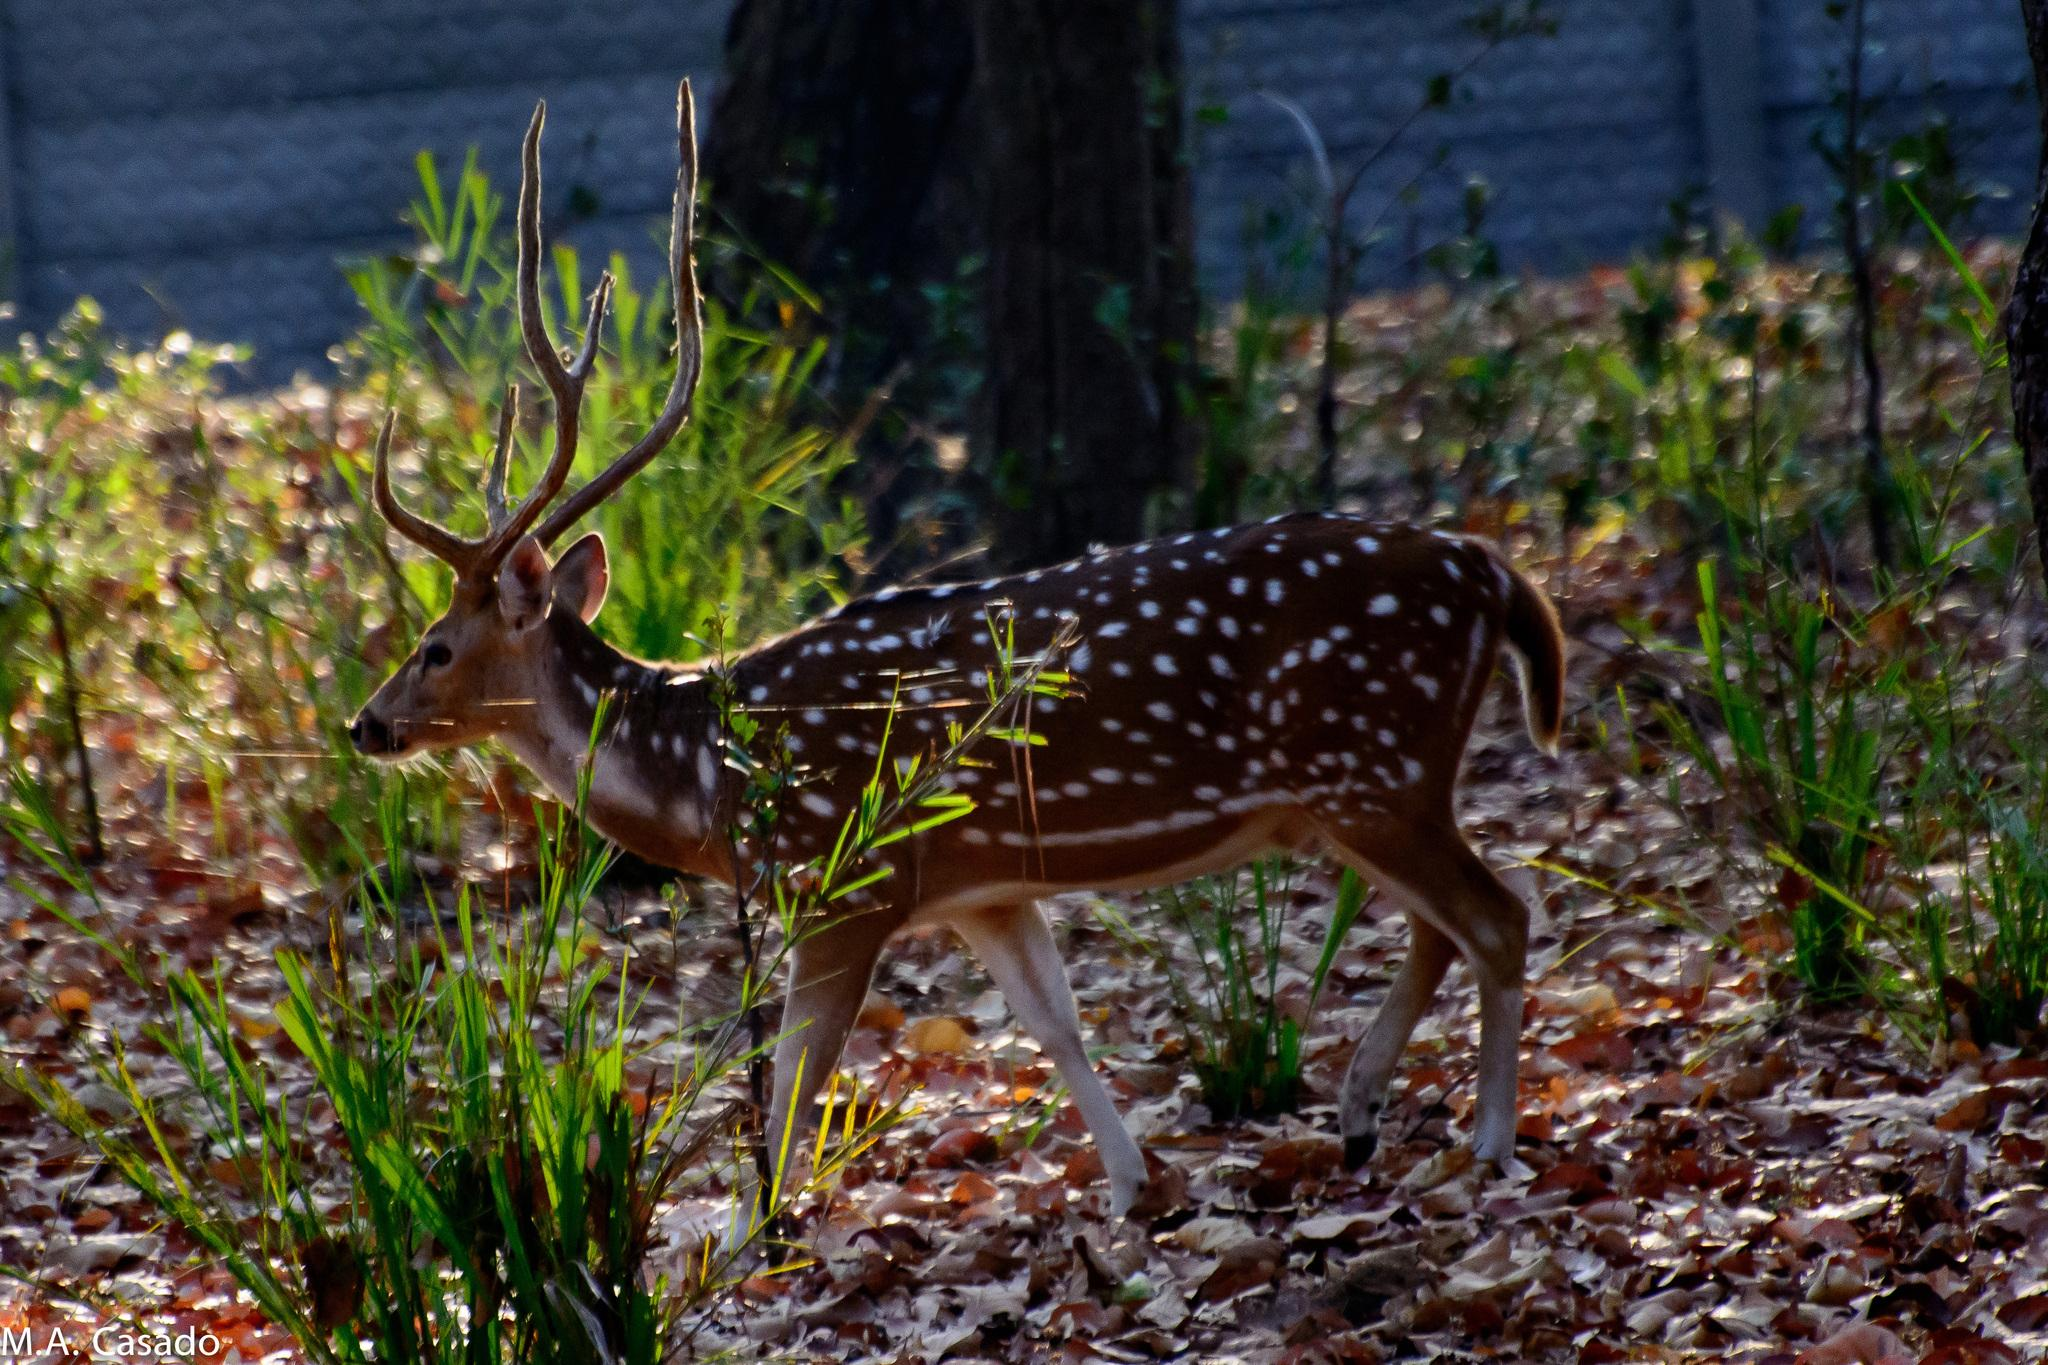Deer: (350, 82, 1564, 1214)
